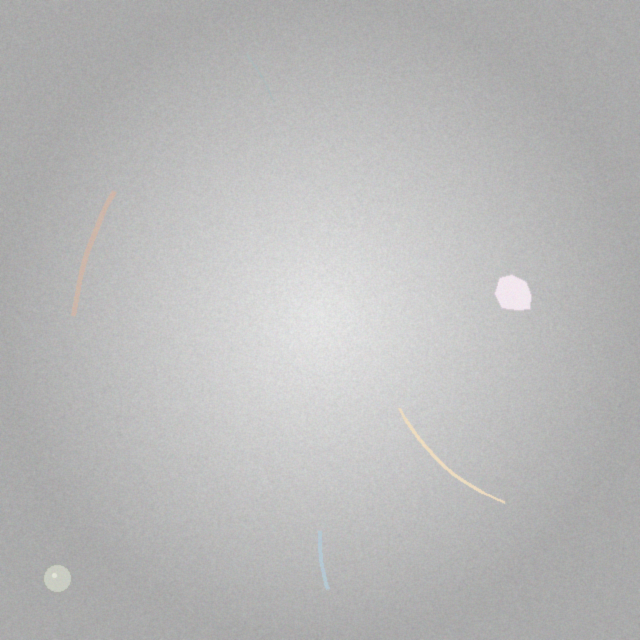fiber: (397, 406, 508, 506), (69, 187, 119, 321), (244, 51, 276, 104), (314, 527, 332, 594)
fragment: (495, 275, 531, 310)
pellet: (43, 565, 71, 593)
